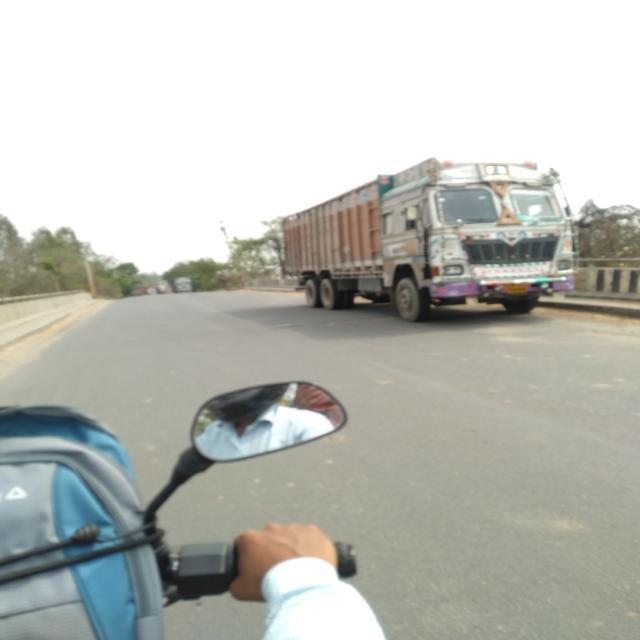truck_front: (275, 152, 596, 326)
